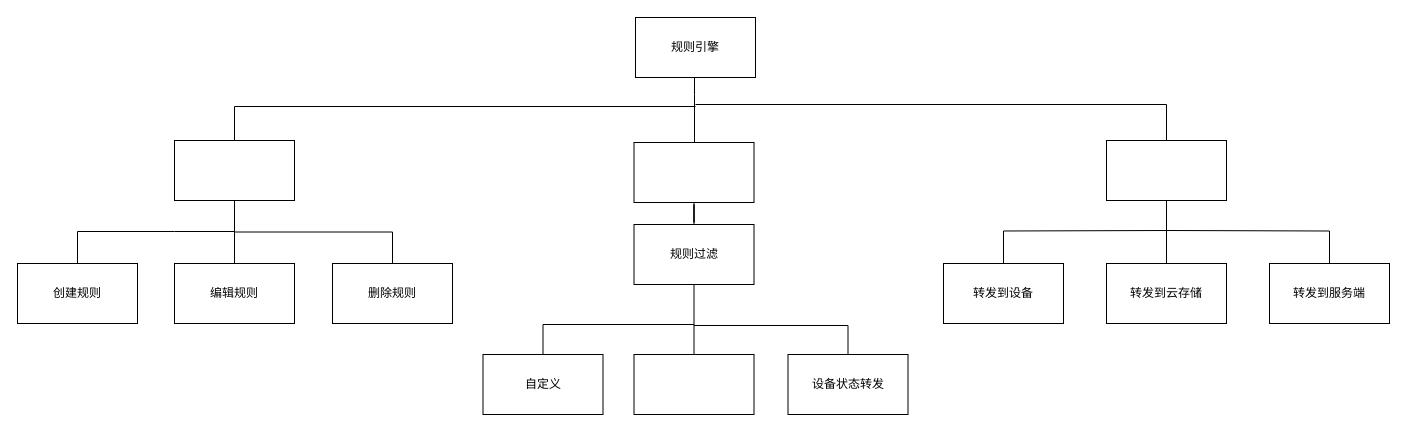
Some shapes in this 1407 by 432 pixel diagram are drawn without their labels. The shapes that lost their labels are listed below. From the top down, each one's centre as x and y in pixels, then its label:
point 234,170: 规则设置
point 693,172: 规则匹配
point 1166,170: 转发动作
point 693,384: 物模型数据上报
